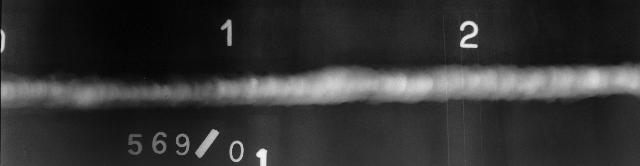FF: (117, 80, 257, 110)
